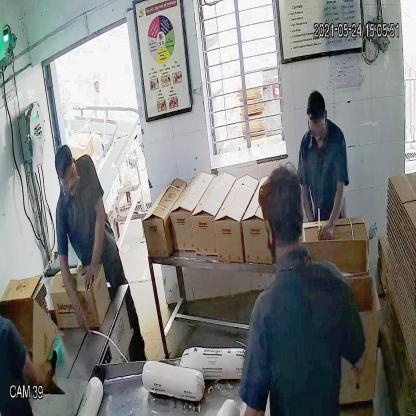goggles: (54, 168, 78, 189)
